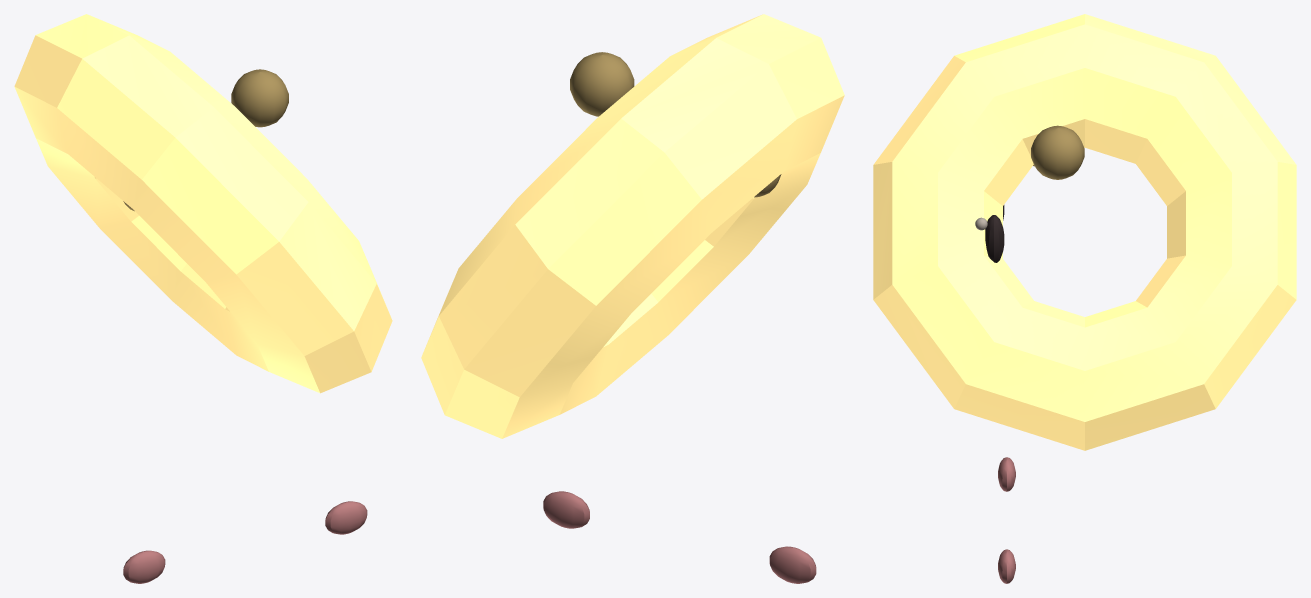
3 views of the same model, side by side, from view 1: azimuth 30°, elevation 25°; view 2: azimuth 150°, elevation 25°; view 3: azimuth 270°, elevation 25° (orthographic). The views are drawn at different scales.
Parts seen in each view (by area): view 1: pet_p598fb9cc; view 2: pet_p598fb9cc; view 3: pet_p598fb9cc.
Part boxes in pixels (x1,y1,x2,y2): pet_p598fb9cc: [14, 14, 392, 583]; pet_p598fb9cc: [421, 14, 844, 583]; pet_p598fb9cc: [873, 14, 1296, 583].
Bounding box in the file's own units: 0.348 × 0.5792 × 0.466.
